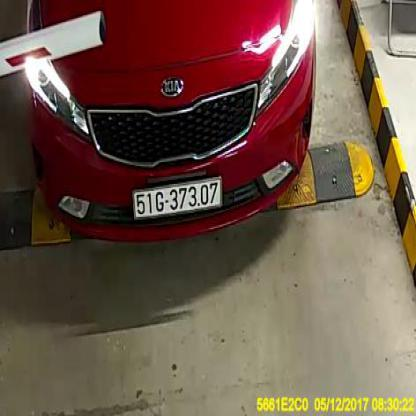biensoxe: (133, 177, 223, 219)
